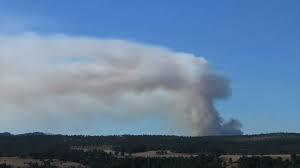yanwu: (0, 31, 243, 136)
